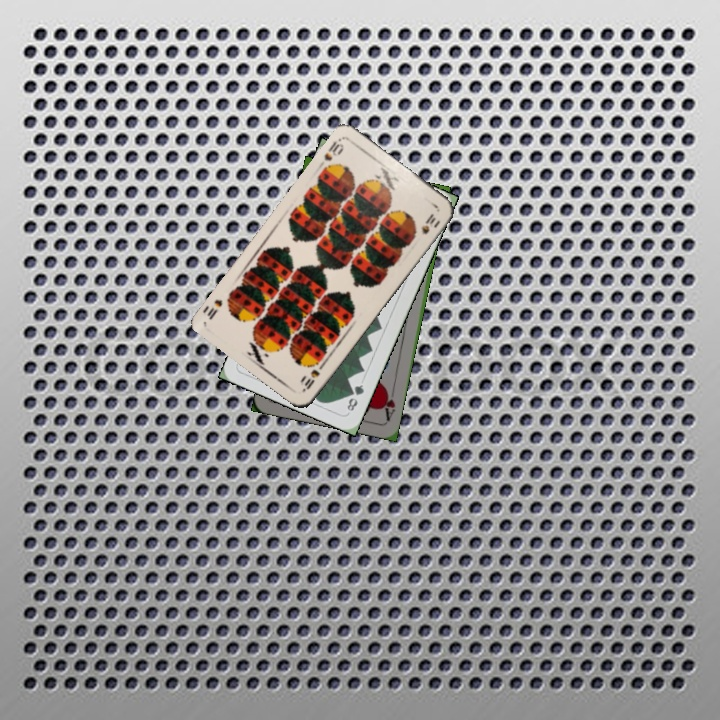G8: (343, 380, 367, 414)
HA: (378, 383, 398, 423)
S10: (298, 358, 328, 394), (320, 137, 347, 164)
